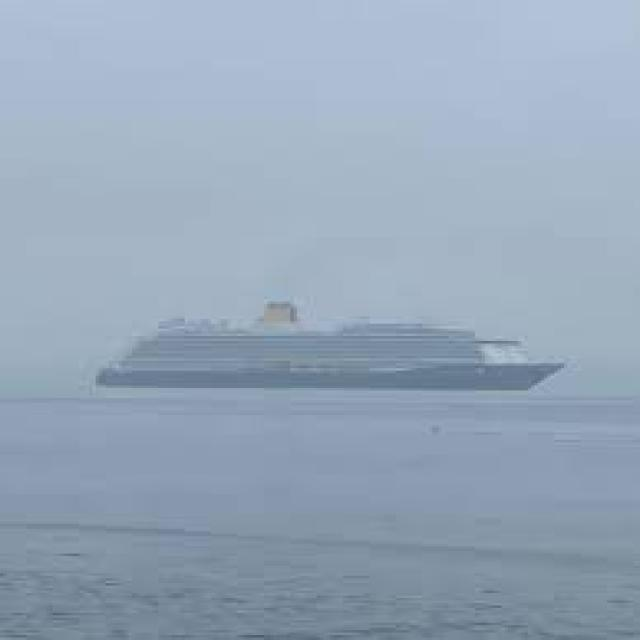passenger ship: (91, 292, 578, 396)
